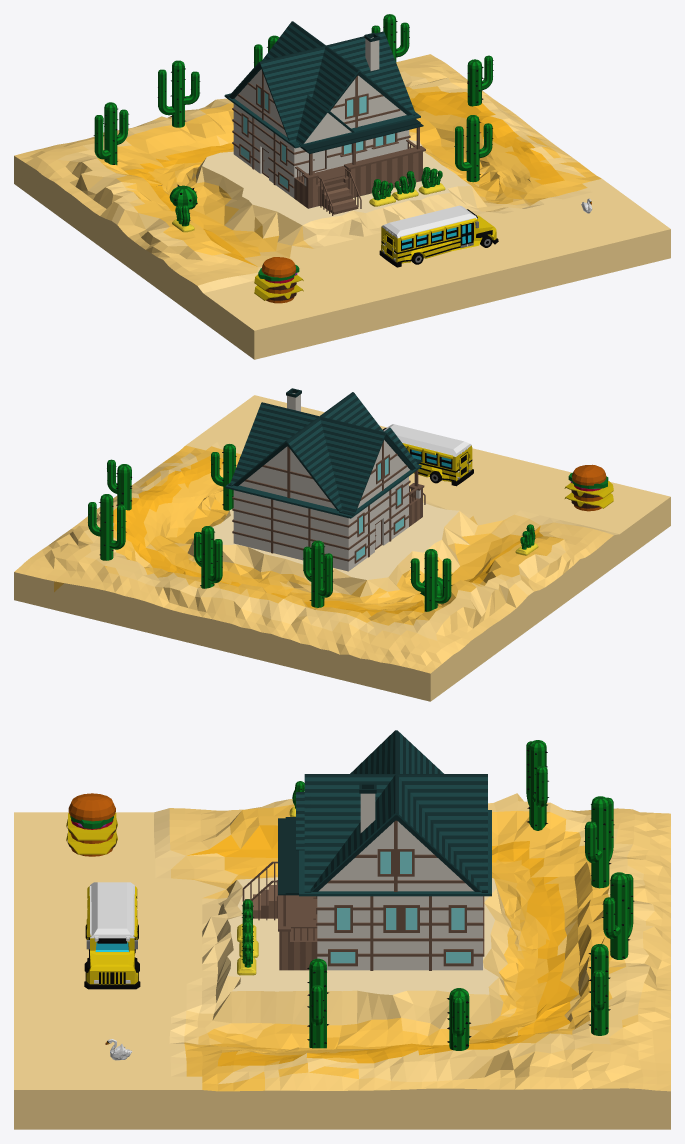
3 views of the same model, one above another, from view 1: azimuth 30°, elevation 25°; view 2: azimuth 150°, elevation 25°; view 3: azimuth 270°, elevation 25° (orthographic). The views are drawn at different scales.
Visible parts, largest first — view 1: Cube.001, Cube.793, VEHICLES_SCHOOL_BUS, OBJRANDOM_HAMBURGER, Cylinder.037, Cylinder.044, Cylinder.045, Cylinder.038, Cylinder.042, Cylinder.039, Cylinder.041, Sphere.023 (+1 smaller); view 2: Cube.001, Cube.793, VEHICLES_SCHOOL_BUS, OBJRANDOM_HAMBURGER, Cylinder.042, Cylinder.045, Cylinder.044, Cylinder.043, Cylinder.037, Cylinder.038; view 3: Cube.001, Cube.793, VEHICLES_SCHOOL_BUS, OBJRANDOM_HAMBURGER, Cylinder.043, Cylinder.044, Cylinder.045, Cylinder.042, Cylinder.037, Cylinder.038, Cylinder.041.
Part boxes in pixels (left/top/right/bottom): Cube.001: left=14, top=54, right=670, bottom=359; Cube.793: left=224, top=21, right=425, bottom=215; VEHICLES_SCHOOL_BUS: left=379, top=205, right=498, bottom=267; OBJRANDOM_HAMBURGER: left=254, top=257, right=303, bottom=303; Cylinder.037: left=454, top=115, right=493, bottom=182; Cylinder.044: left=157, top=60, right=200, bottom=127; Cylinder.045: left=93, top=102, right=129, bottom=164; Cylinder.038: left=467, top=55, right=493, bottom=106; Cylinder.042: left=371, top=14, right=409, bottom=62; Cylinder.039: left=369, top=179, right=395, bottom=206; Cylinder.041: left=418, top=167, right=445, bottom=194; Sphere.023: left=169, top=184, right=197, bottom=209; Cube.001: left=14, top=395, right=670, bottom=701; Cube.793: left=225, top=388, right=425, bottom=571; VEHICLES_SCHOOL_BUS: left=383, top=424, right=473, bottom=486; OBJRANDOM_HAMBURGER: left=564, top=464, right=613, bottom=511; Cylinder.042: left=88, top=494, right=126, bottom=560; Cylinder.045: left=410, top=549, right=452, bottom=611; Cylinder.044: left=303, top=540, right=333, bottom=607; Cylinder.043: left=193, top=526, right=222, bottom=588; Cylinder.037: left=211, top=444, right=240, bottom=510; Cylinder.038: left=107, top=459, right=131, bottom=510; Cube.001: left=14, top=793, right=670, bottom=1129; Cube.793: left=242, top=730, right=491, bottom=970; VEHICLES_SCHOOL_BUS: left=84, top=882, right=140, bottom=989; OBJRANDOM_HAMBURGER: left=66, top=793, right=117, bottom=856; Cylinder.043: left=602, top=872, right=634, bottom=959; Cylinder.044: left=584, top=796, right=614, bottom=888; Cylinder.045: left=526, top=740, right=548, bottom=830; Cylinder.042: left=588, top=944, right=610, bottom=1035; Cylinder.037: left=307, top=958, right=328, bottom=1048; Cylinder.038: left=447, top=988, right=471, bottom=1050; Cylinder.041: left=237, top=932, right=256, bottom=975.
Bounding box in the file's own units: 4002 × 1600 × 4001.
31 materials, 3 textured.
